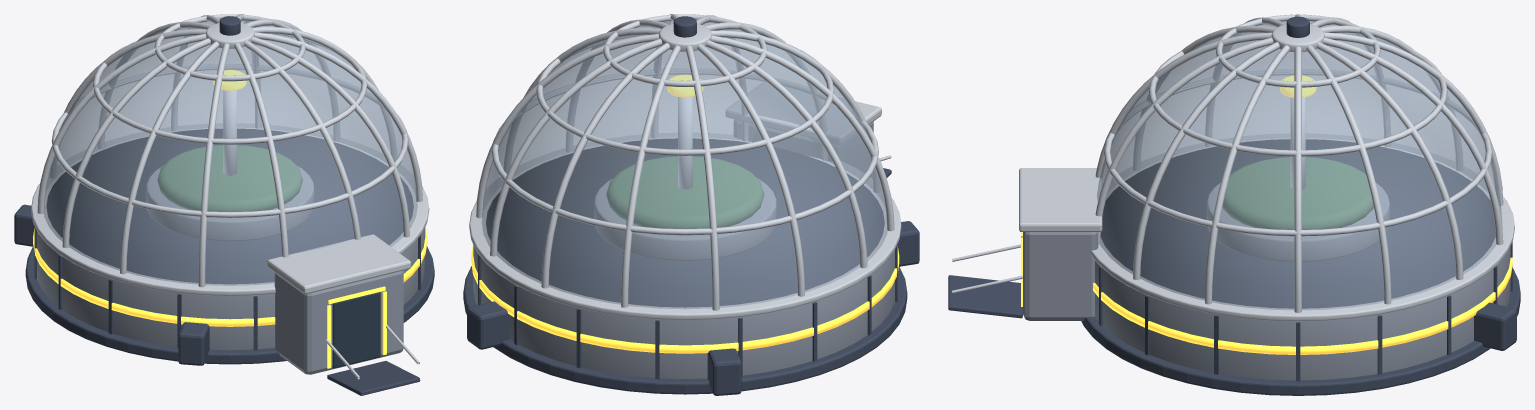
The model's file is dome.glb.
The picture shows the model from 3 angles, left to right: view 1: azimuth 30°, elevation 25°; view 2: azimuth 150°, elevation 25°; view 3: azimuth 270°, elevation 25°; orthographic projection. The views are drawn at different scales.
Visible parts, largest first — view 1: DomeGlass, Interior, Ribs, Drum, Airlock, OrangeBand, Ramp, Service; view 2: DomeGlass, Interior, Drum, Ribs, Airlock, Service, OrangeBand; view 3: DomeGlass, Interior, Drum, Ribs, Airlock, OrangeBand, Ramp, Service.
Boxes of the visible parts, x1=… form: DomeGlass: x1=43, y1=20, x2=417, y2=285; Interior: x1=46, y1=70, x2=413, y2=284; Ribs: x1=37, y1=14, x2=422, y2=287; Drum: x1=25, y1=123, x2=434, y2=364; Airlock: x1=267, y1=234, x2=410, y2=374; OrangeBand: x1=33, y1=227, x2=427, y2=326; Ramp: x1=325, y1=325, x2=420, y2=395; Service: x1=14, y1=204, x2=209, y2=365; DomeGlass: x1=481, y1=20, x2=887, y2=309; Interior: x1=486, y1=75, x2=884, y2=307; Drum: x1=463, y1=133, x2=907, y2=394; Ribs: x1=476, y1=14, x2=894, y2=310; Airlock: x1=726, y1=82, x2=881, y2=178; Service: x1=467, y1=221, x2=919, y2=395; OrangeBand: x1=471, y1=245, x2=899, y2=353; DomeGlass: x1=1096, y1=21, x2=1502, y2=310; Interior: x1=1100, y1=75, x2=1495, y2=308; Drum: x1=1081, y1=133, x2=1520, y2=395; Ribs: x1=1095, y1=14, x2=1503, y2=312; Airlock: x1=1019, y1=168, x2=1102, y2=320; OrangeBand: x1=1093, y1=257, x2=1512, y2=354; Ramp: x1=948, y1=244, x2=1022, y2=318; Service: x1=1474, y1=302, x2=1516, y2=350.
Bounding box in the file's own units: 5.34 × 3.73 × 6.87.
